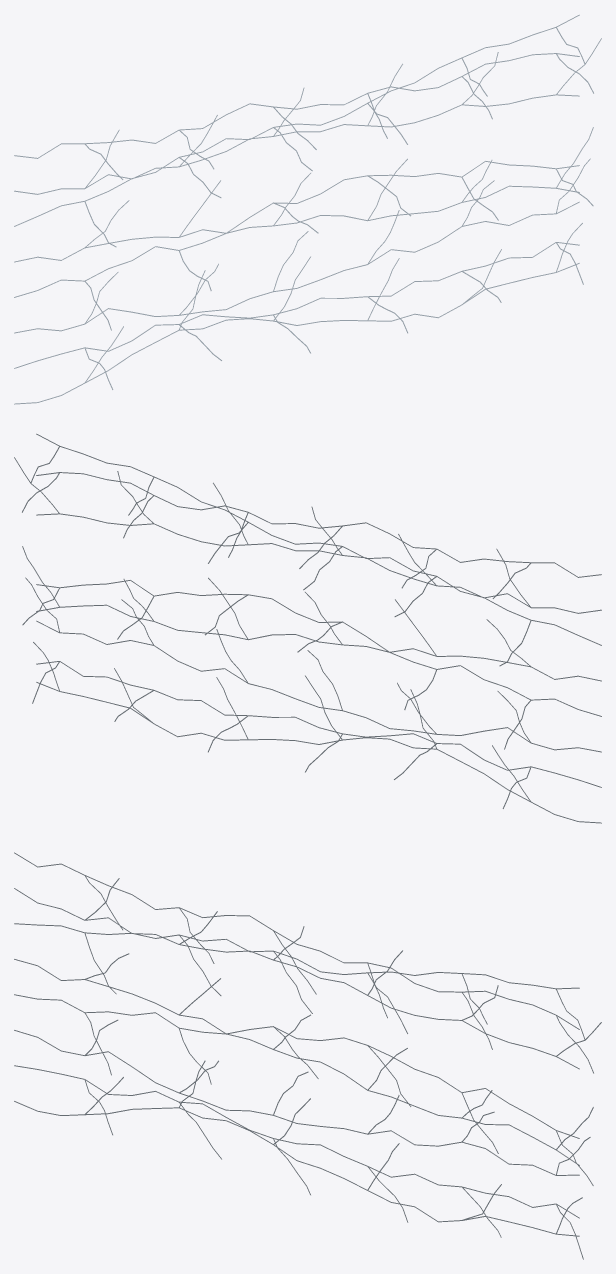
File: 2071_RiftGround_State_BlueWhiteBranchingRifts.fbx
3 views of the same model, one above another, from view 1: azimuth 30°, elevation 25°; view 2: azimuth 150°, elevation 25°; view 3: azimuth 330°, elevation 25° (orthographic).
Visible parts, largest first — view 1: PART_BlueWhiteBranchingRifts_48, PART_BlueWhiteBranchingRifts_55, PART_BlueWhiteBranchingRifts_20, PART_BlueWhiteBranchingRifts_41, PART_BlueWhiteBranchingRifts_6, PART_BlueWhiteBranchingRifts_34, PART_BlueWhiteBranchingRifts_13, PART_BlueWhiteBranchingRifts_27; view 2: PART_BlueWhiteBranchingRifts_48, PART_BlueWhiteBranchingRifts_55, PART_BlueWhiteBranchingRifts_20, PART_BlueWhiteBranchingRifts_41, PART_BlueWhiteBranchingRifts_6, PART_BlueWhiteBranchingRifts_34, PART_BlueWhiteBranchingRifts_13, PART_BlueWhiteBranchingRifts_27; view 3: PART_BlueWhiteBranchingRifts_55, PART_BlueWhiteBranchingRifts_6, PART_BlueWhiteBranchingRifts_34, PART_BlueWhiteBranchingRifts_27, PART_BlueWhiteBranchingRifts_48, PART_BlueWhiteBranchingRifts_13, PART_BlueWhiteBranchingRifts_20, PART_BlueWhiteBranchingRifts_41.
Boxes of the visible parts, box(x1,y1,x2,y2) form: PART_BlueWhiteBranchingRifts_48: box(14, 94, 579, 194); PART_BlueWhiteBranchingRifts_55: box(14, 53, 579, 158); PART_BlueWhiteBranchingRifts_20: box(14, 201, 579, 333); PART_BlueWhiteBranchingRifts_41: box(14, 14, 579, 226); PART_BlueWhiteBranchingRifts_6: box(14, 263, 579, 404); PART_BlueWhiteBranchingRifts_34: box(14, 185, 579, 262); PART_BlueWhiteBranchingRifts_13: box(14, 242, 579, 368); PART_BlueWhiteBranchingRifts_27: box(14, 161, 579, 297); PART_BlueWhiteBranchingRifts_48: box(36, 513, 601, 613); PART_BlueWhiteBranchingRifts_55: box(36, 472, 601, 577); PART_BlueWhiteBranchingRifts_20: box(36, 620, 601, 752); PART_BlueWhiteBranchingRifts_41: box(36, 433, 601, 645); PART_BlueWhiteBranchingRifts_6: box(36, 682, 601, 823); PART_BlueWhiteBranchingRifts_34: box(36, 604, 601, 681); PART_BlueWhiteBranchingRifts_13: box(36, 661, 601, 787); PART_BlueWhiteBranchingRifts_27: box(36, 580, 601, 716); PART_BlueWhiteBranchingRifts_55: box(14, 852, 579, 1029); PART_BlueWhiteBranchingRifts_6: box(14, 1101, 579, 1236); PART_BlueWhiteBranchingRifts_34: box(14, 959, 579, 1165); PART_BlueWhiteBranchingRifts_27: box(14, 994, 579, 1138); PART_BlueWhiteBranchingRifts_48: box(14, 888, 579, 1069); PART_BlueWhiteBranchingRifts_13: box(14, 1065, 579, 1218); PART_BlueWhiteBranchingRifts_20: box(14, 1030, 579, 1175); PART_BlueWhiteBranchingRifts_41: box(14, 923, 579, 989).
Bounding box in the file's own units: 2046 × 922 × 0.00015.
